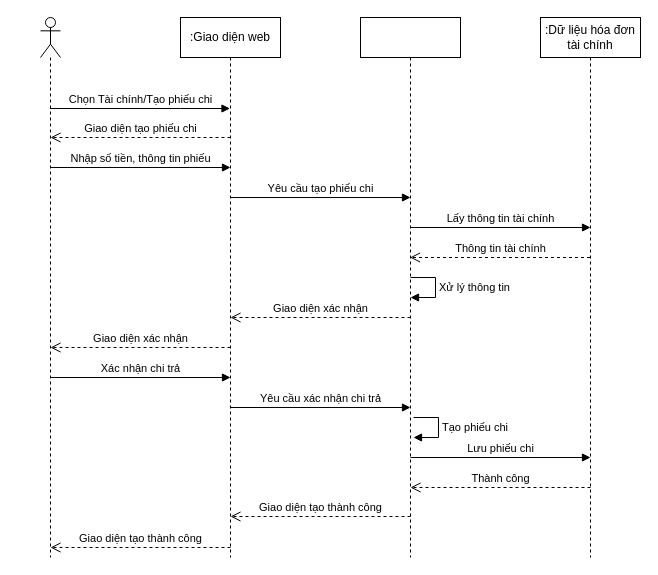
Image size: 658x575. Some labels were removed from this diagram. The box of each missing label's shape, as (x1, y1, x2, y2) in pixels:
:Máy chủ: (360, 16, 460, 558)
Quản lý: (40, 16, 60, 558)
